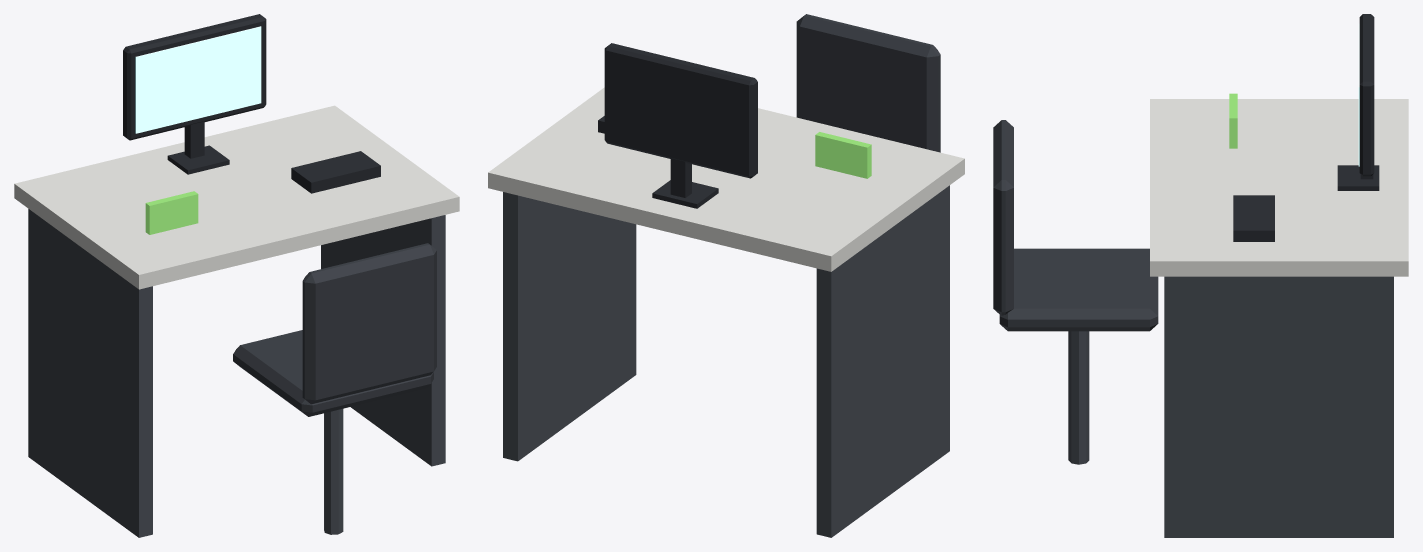
File: flex_desk.glb
The picture shows the model from 3 angles, left to right: view 1: azimuth 30°, elevation 25°; view 2: azimuth 150°, elevation 25°; view 3: azimuth 270°, elevation 25°; orthographic projection. The views are drawn at different scales.
Visible parts, largest first — view 1: flex_desk_mesh; view 2: flex_desk_mesh; view 3: flex_desk_mesh.
Part boxes in pixels (box(x1,y1,x2,y2)): flex_desk_mesh: box(14, 14, 459, 537); flex_desk_mesh: box(488, 14, 964, 537); flex_desk_mesh: box(993, 14, 1408, 537).
Size of the model in its own units: 0.92 by 1.09 by 0.995.
